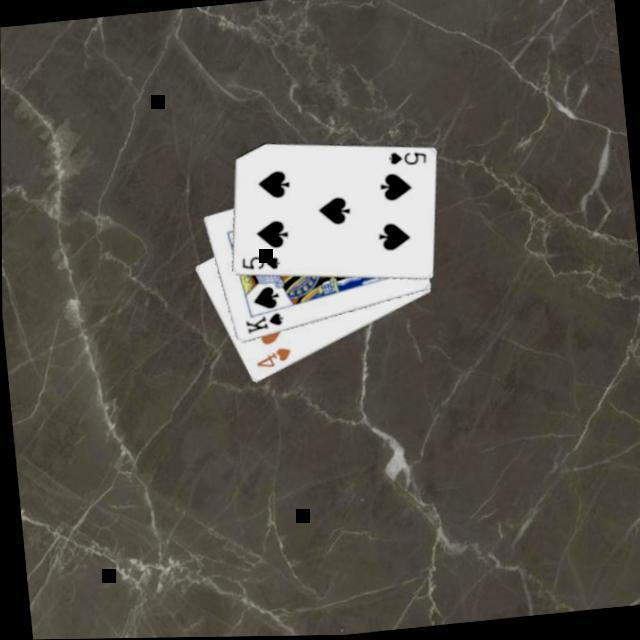4H: (252, 344, 294, 372)
5S: (237, 250, 283, 276), (384, 146, 429, 171)
KS: (242, 308, 288, 337)
